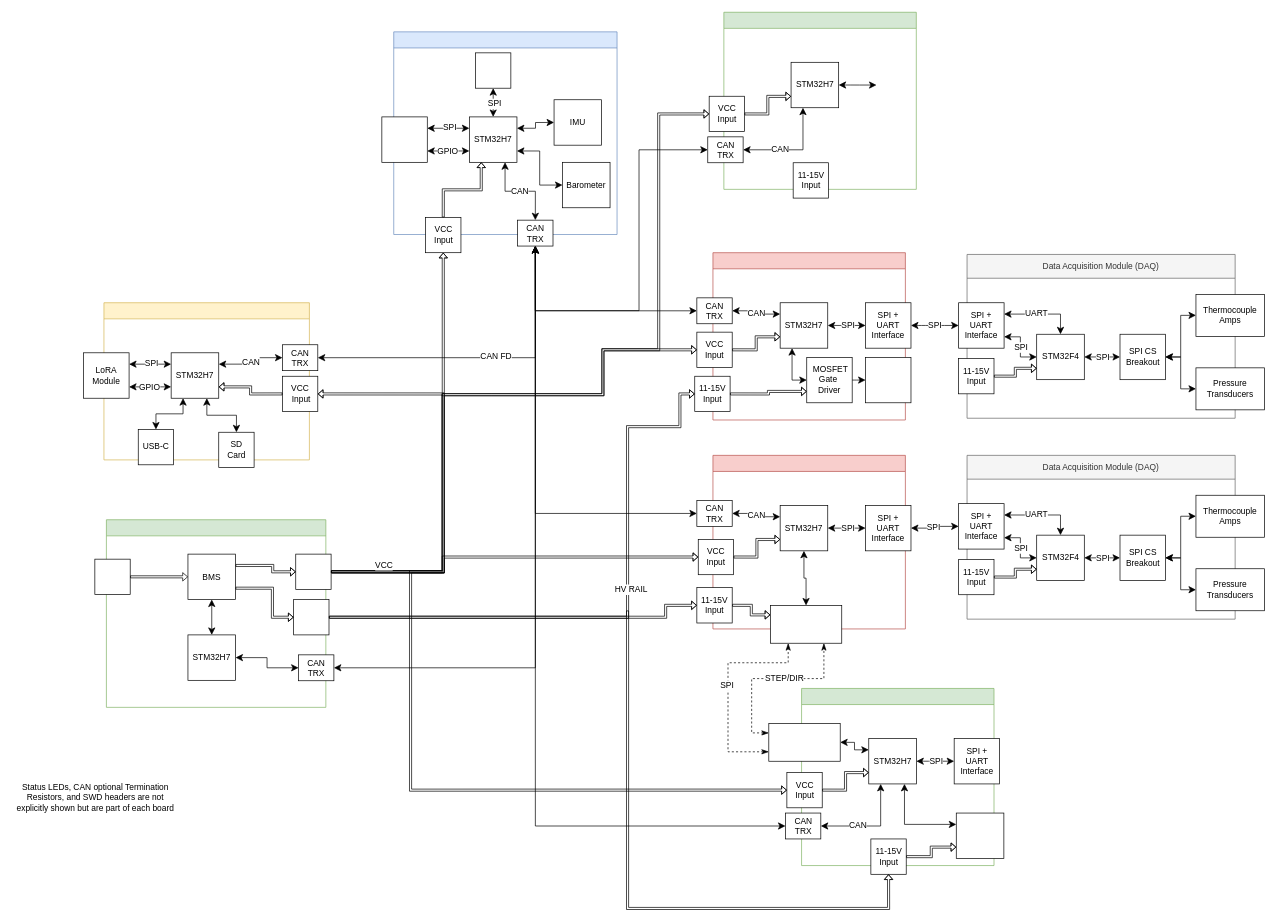
The diagram is 1277 pixels wide and 922 high, and some of its shapes have lost their labels. The shapes that lost their labels are listed below. From the top down, each one's box as (x1, y1, x2, y2) in pixels, then its label:
(475, 52, 511, 88): CM5
(723, 12, 916, 189): Roll Control System (RCS)
(381, 116, 427, 162): RTK Module
(393, 31, 617, 234): Primary Flight Computer (PFC)
(712, 252, 905, 420): Electronic Pressure Regulator (EPR)
(103, 302, 309, 460): Communication Control Module (CCM)
(865, 357, 911, 403): MOSFETs
(712, 455, 905, 629): Electronic Throttle Controller (EPR)
(94, 558, 130, 595): Battery Input
(295, 553, 331, 589): VCC Output
(106, 519, 326, 707): Power Distribution Unit (PDU)
(293, 599, 329, 635): 11-15V Output
(770, 605, 842, 643): Linear Actuator Driver Interface
(768, 723, 840, 761): Throttle Board Interface
(801, 688, 994, 866): Linear Actuator Driver (LAD)
(956, 812, 1004, 858): Stepper Driver IC
